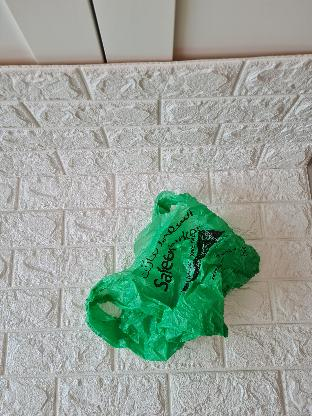Plastic Bag: (87, 186, 259, 364)
